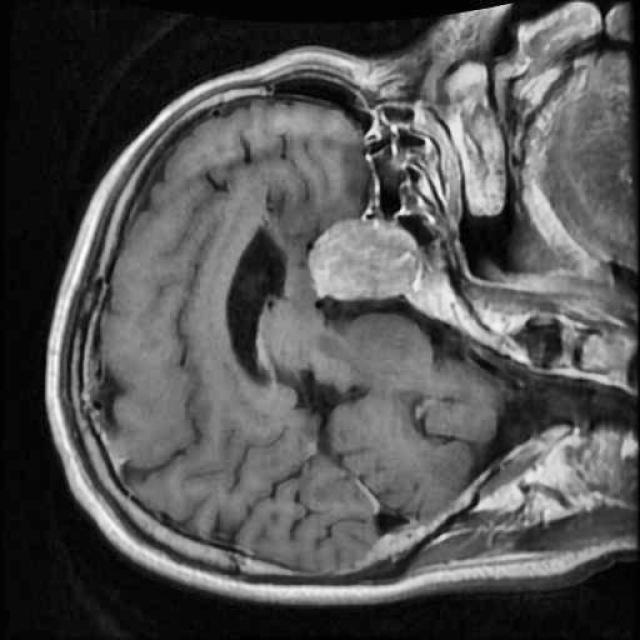Tumor: (306, 204, 436, 310)
